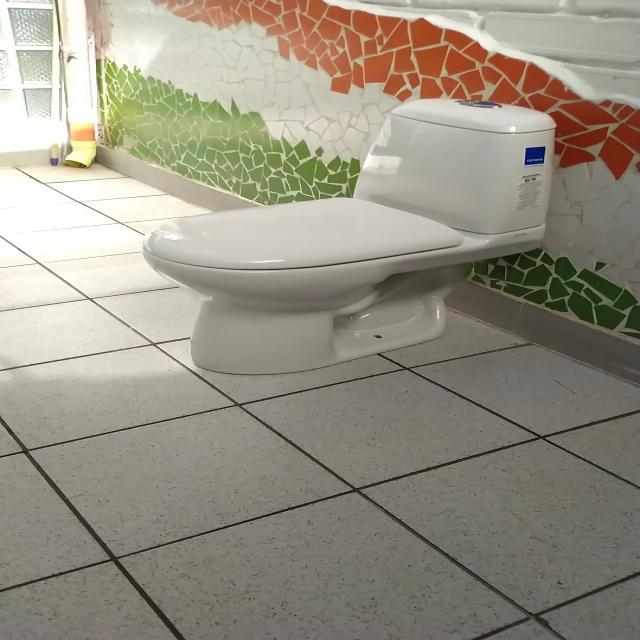toilet: (140, 97, 556, 376)
